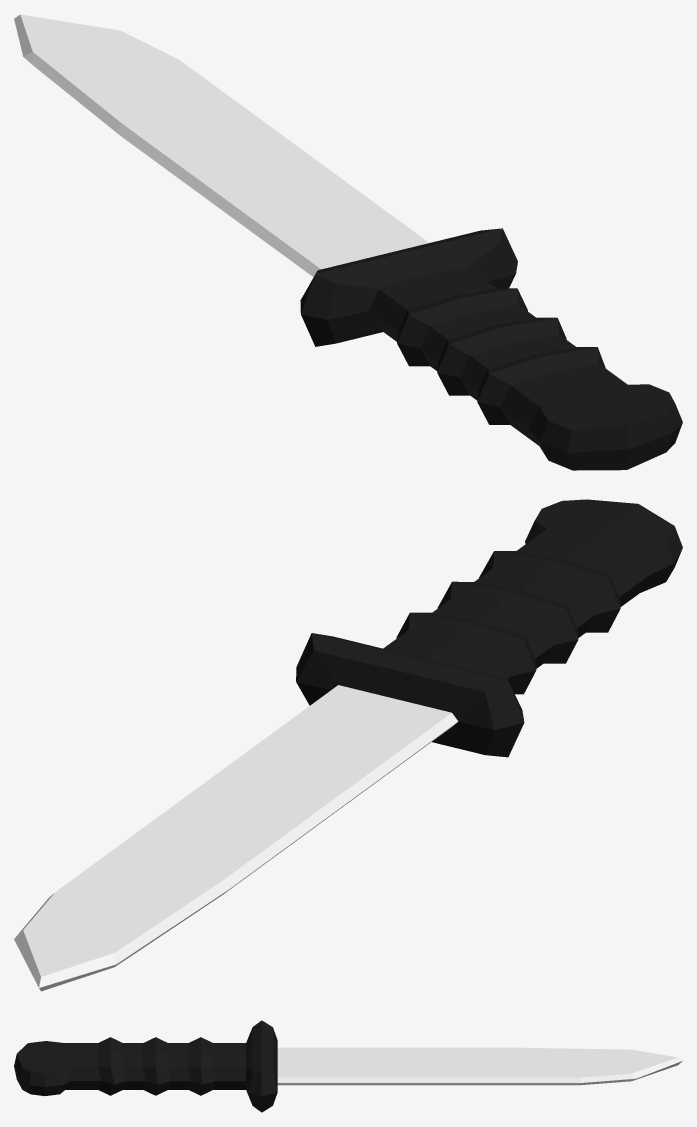
The model's file is Knife_02.fbx.
The picture shows the model from 3 angles, top to bottom: view 1: azimuth 30°, elevation 25°; view 2: azimuth 150°, elevation 25°; view 3: azimuth 270°, elevation 25°; orthographic projection. The views are drawn at different scales.
Parts seen in each view (by area): view 1: Knife_02; view 2: Knife_02; view 3: Knife_02.
Part boxes in pixels (box(x1,y1,x2,y2)): Knife_02: box(14, 14, 682, 470); Knife_02: box(14, 499, 682, 991); Knife_02: box(14, 1020, 682, 1112).
Bounding box in the file's own units: 11.85 × 3.8 × 56.21.
